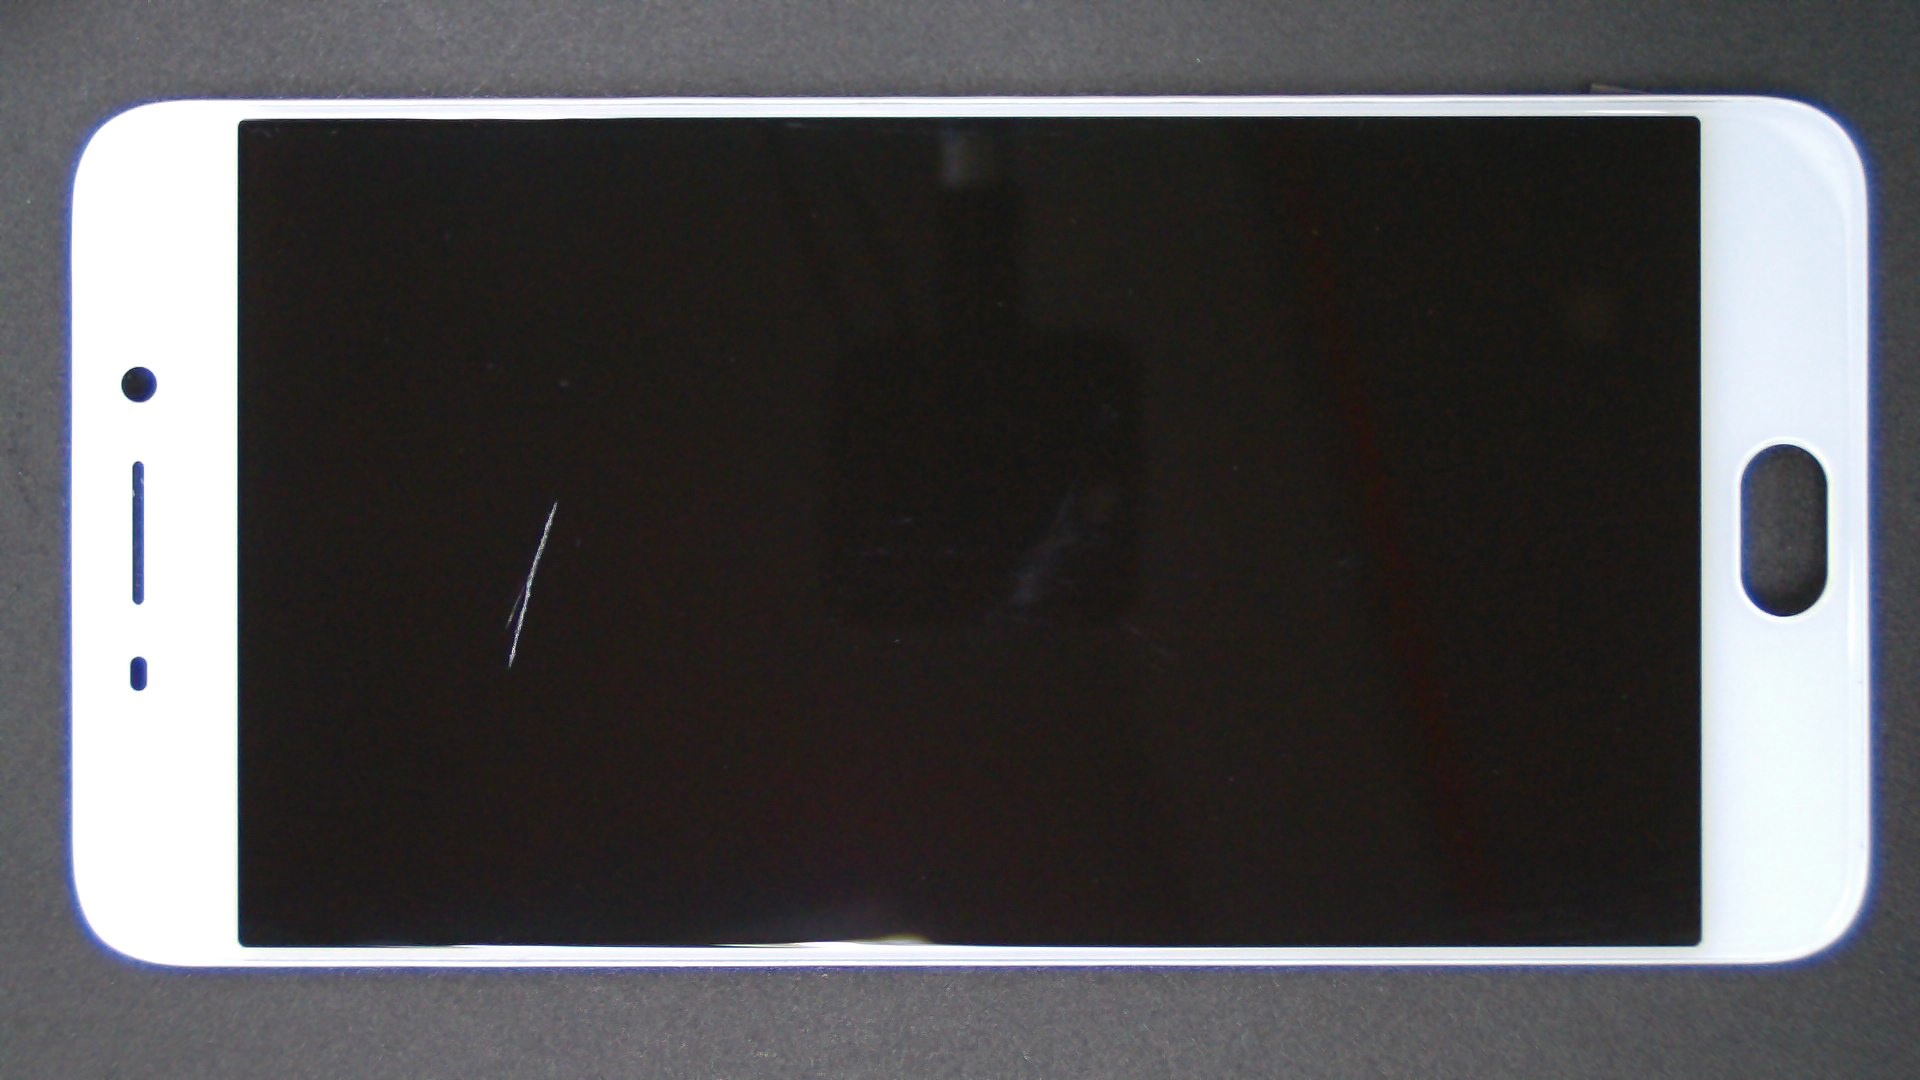oil: (277, 251, 831, 753)
